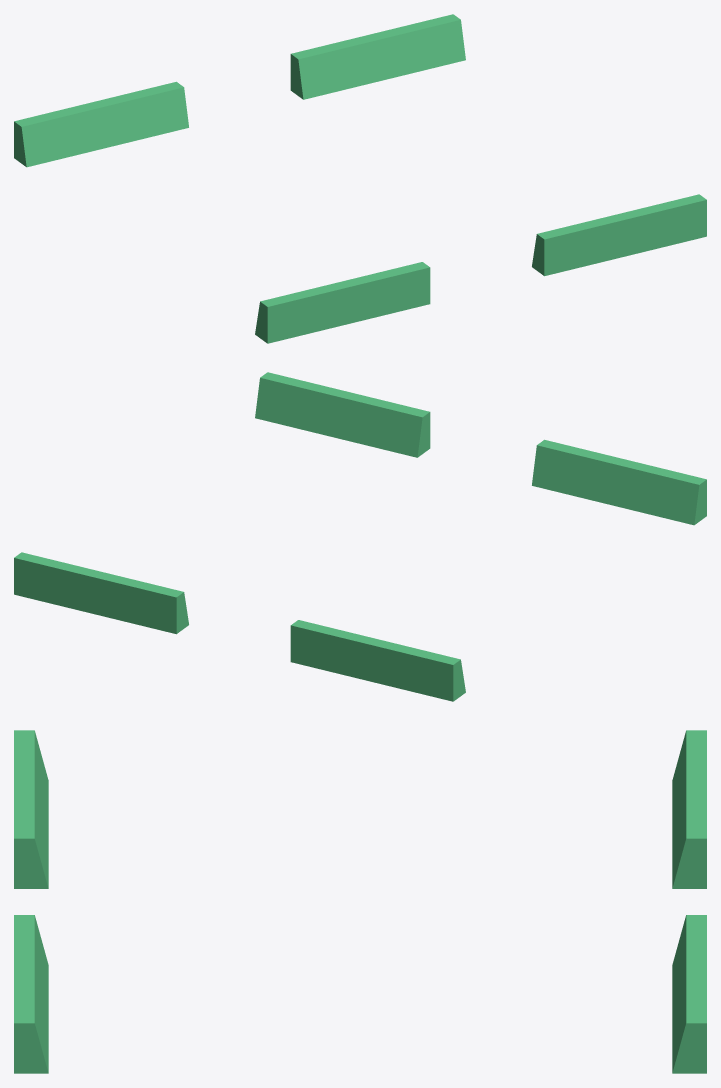
The model's file is road_driveway_double_barrier.glb.
The picture shows the model from 3 angles, top to bottom: view 1: azimuth 30°, elevation 25°; view 2: azimuth 150°, elevation 25°; view 3: azimuth 270°, elevation 25°; orthographic projection. The views are drawn at different scales.
Visible parts, largest first — view 1: road-driveway-double-barrier; view 2: road-driveway-double-barrier; view 3: road-driveway-double-barrier.
Boxes of the visible parts, <box> form: road-driveway-double-barrier: <box>14,14,706,343</box>; road-driveway-double-barrier: <box>14,372,706,701</box>; road-driveway-double-barrier: <box>14,730,706,1073</box>.
Size of the model in its own units: 1 by 0.08 by 1.
Materials: 1 (1 with a texture image).
